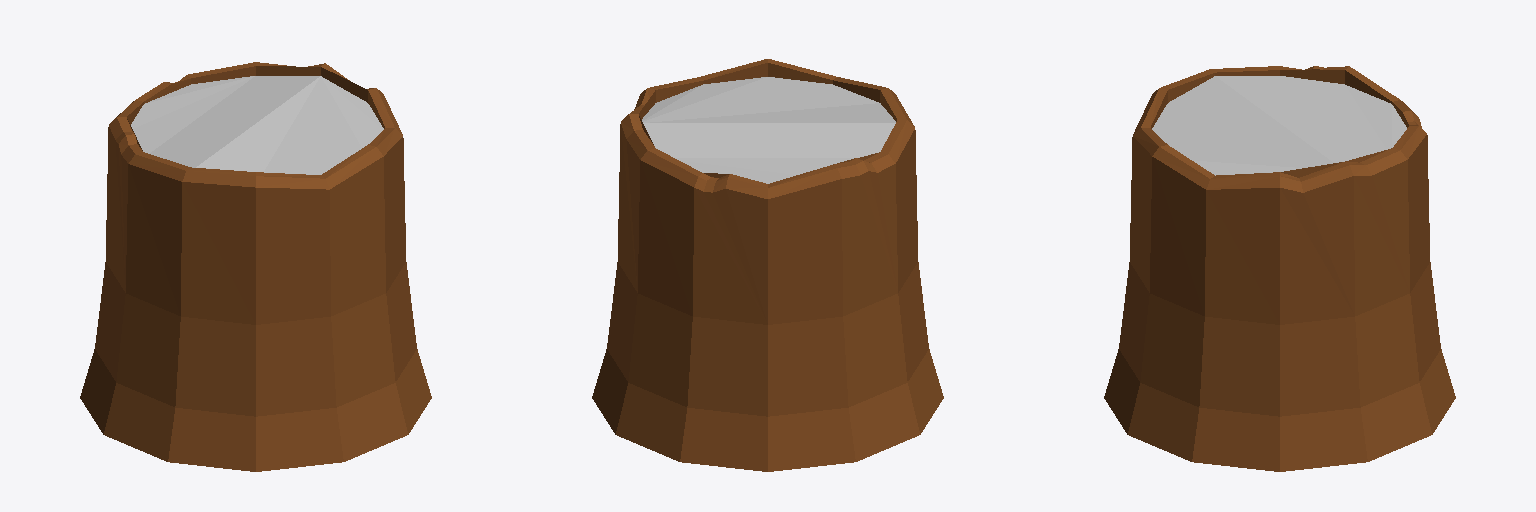
File: Stump_2.obj
3 views of the same model, side by side, from view 1: azimuth 30°, elevation 25°; view 2: azimuth 150°, elevation 25°; view 3: azimuth 270°, elevation 25° (orthographic).
Visible parts, largest first — view 1: Cylinder.074_Cylinder.138; view 2: Cylinder.074_Cylinder.138; view 3: Cylinder.074_Cylinder.138.
Boxes of the visible parts, <box> form: Cylinder.074_Cylinder.138: <box>80,62,431,471</box>; Cylinder.074_Cylinder.138: <box>592,59,943,471</box>; Cylinder.074_Cylinder.138: <box>1104,66,1455,471</box>.
Size of the model in its own units: 0.4529 by 0.4027 by 0.4529.